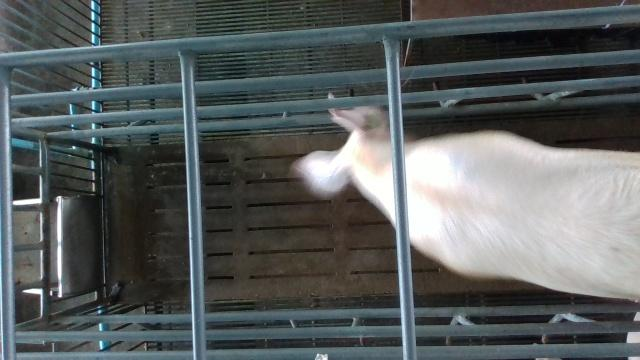sow-stand: (293, 90, 640, 300)
